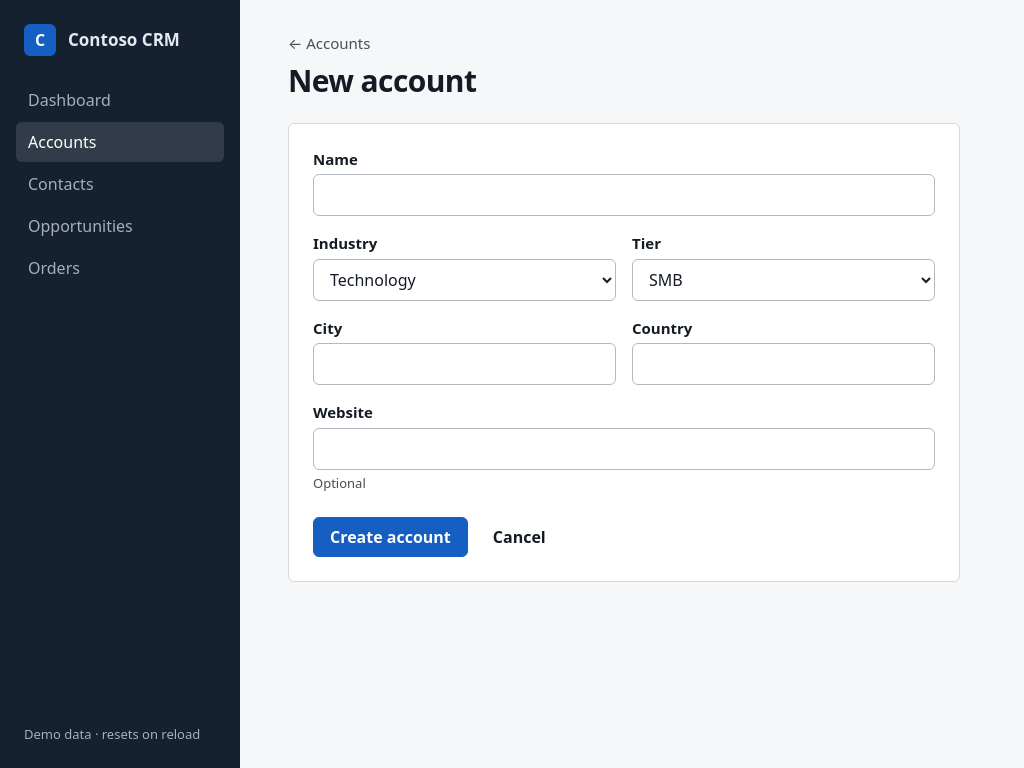
Test: Accounts › creates an account and opens its detail page
Step 1. Type "Proseware Inc." into the field labelled "Name" → (624, 195), box top-left (313, 174), bottom-right (935, 216)
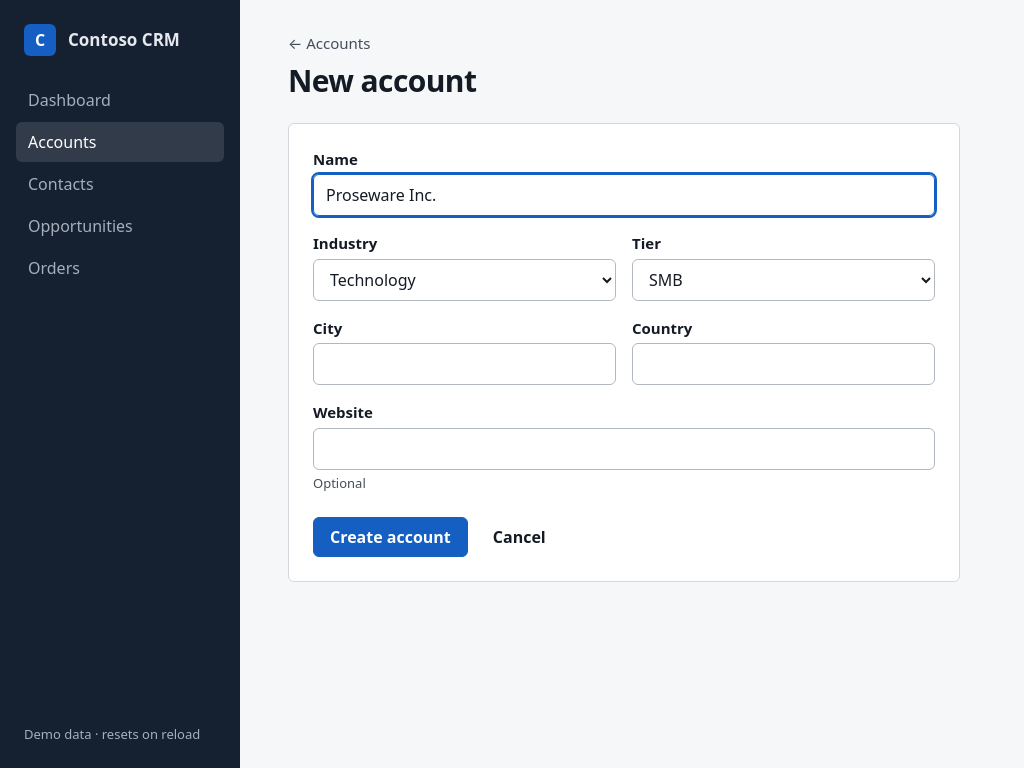
Step 2. Type "Bursa" into the field labelled "City" → (464, 364), box top-left (313, 343), bottom-right (616, 385)
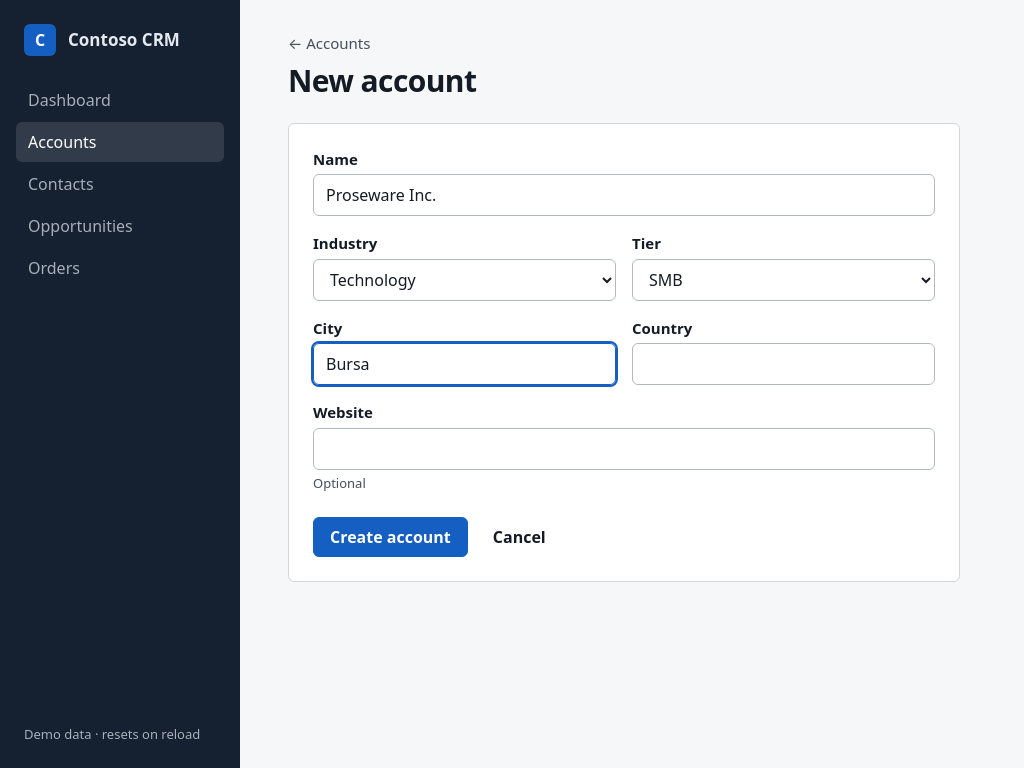
Step 3. Type "Türkiye" into the field labelled "Country" → (784, 364), box top-left (632, 343), bottom-right (935, 385)
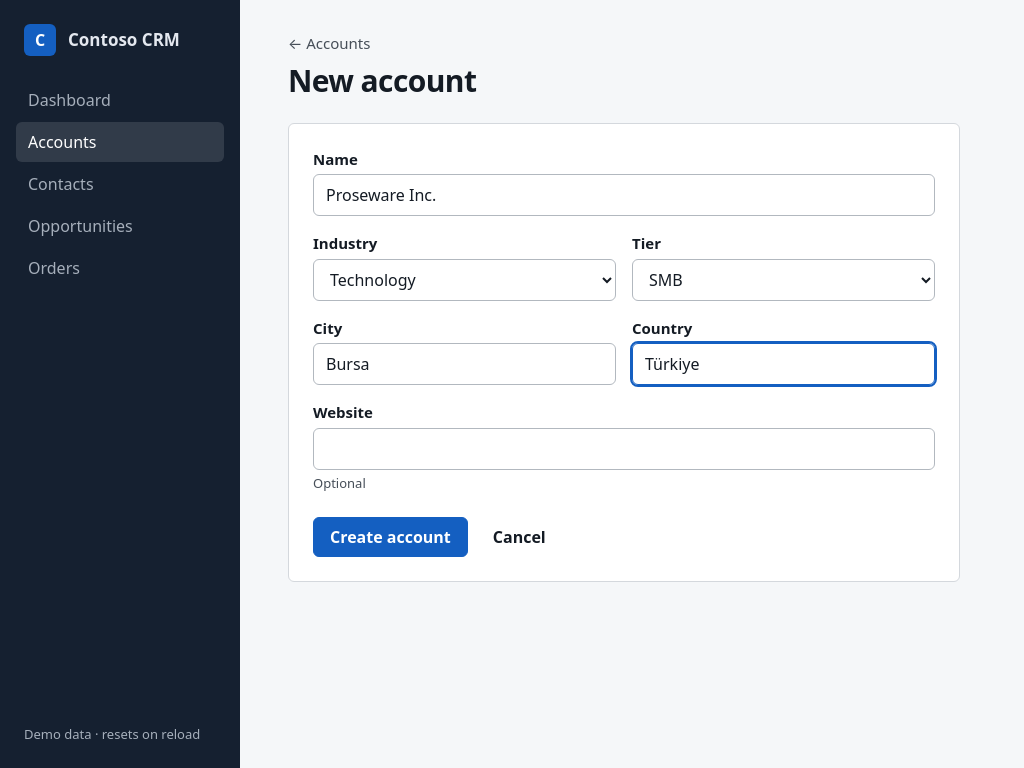
Step 4. Click the button "Create account" → (390, 537), box top-left (313, 517), bottom-right (468, 557)
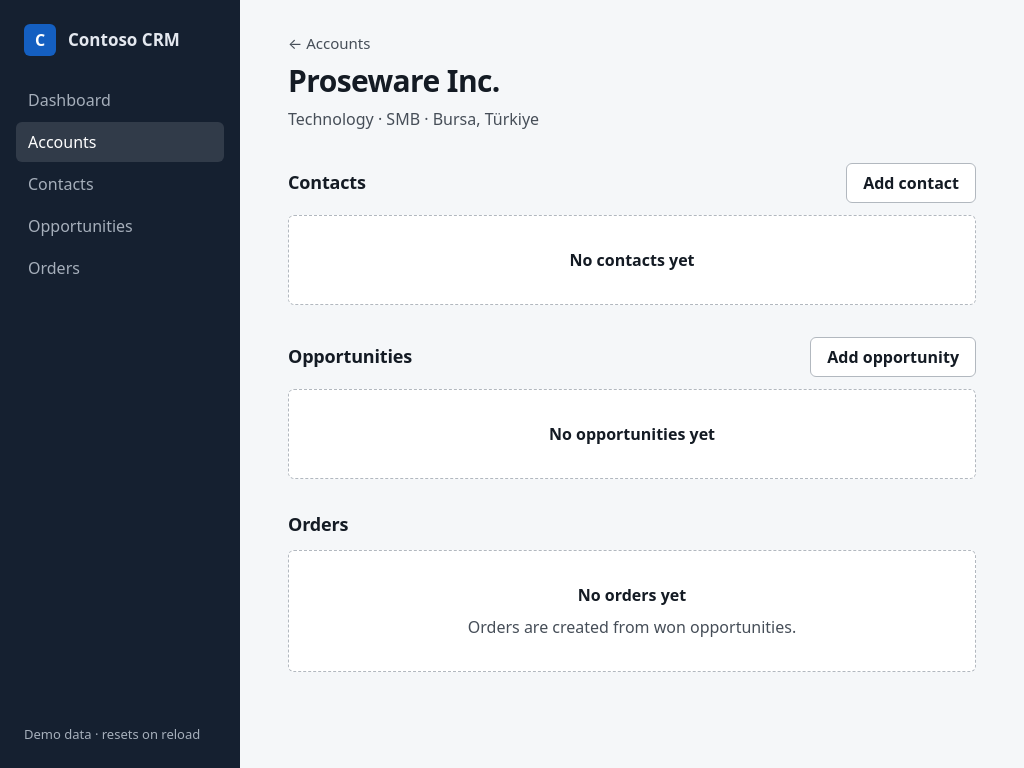
Result: the heading "Proseware Inc." is shown at top-left (288, 60), bottom-right (500, 100)
